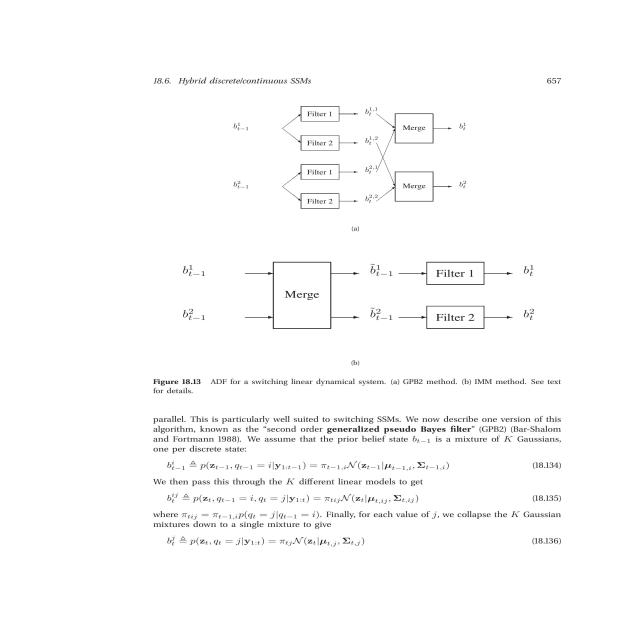diagram: (95, 74, 568, 394)
